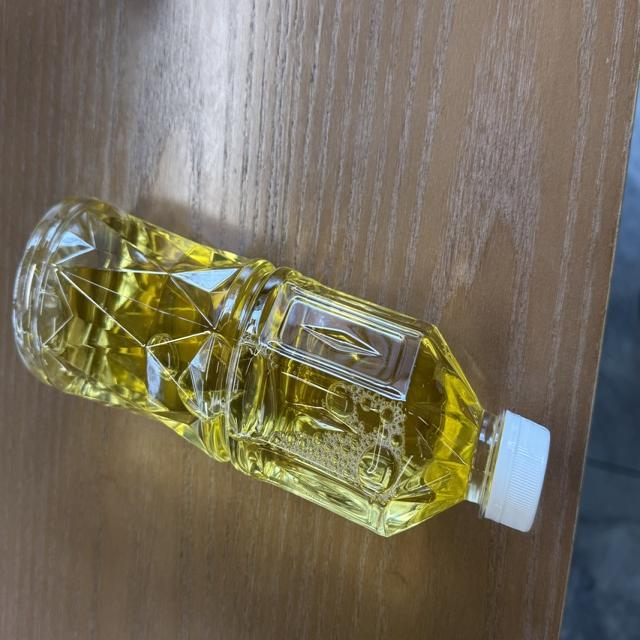high: (14, 198, 549, 535)
